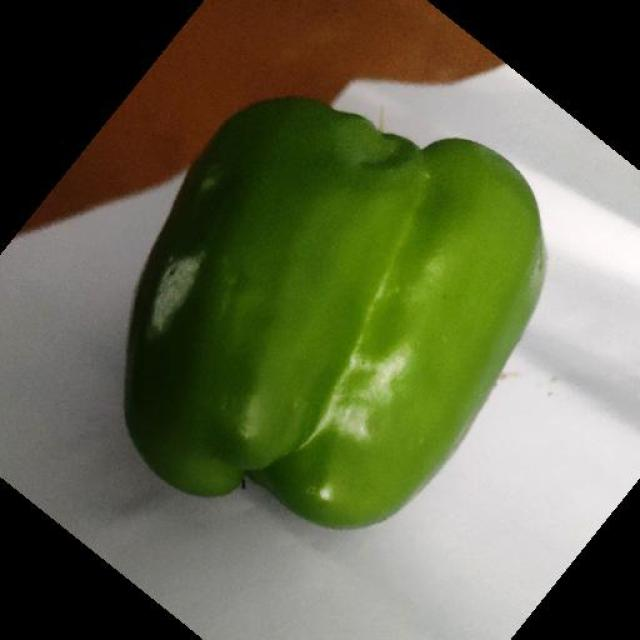Stale_Capsicum: (91, 201, 288, 491)
